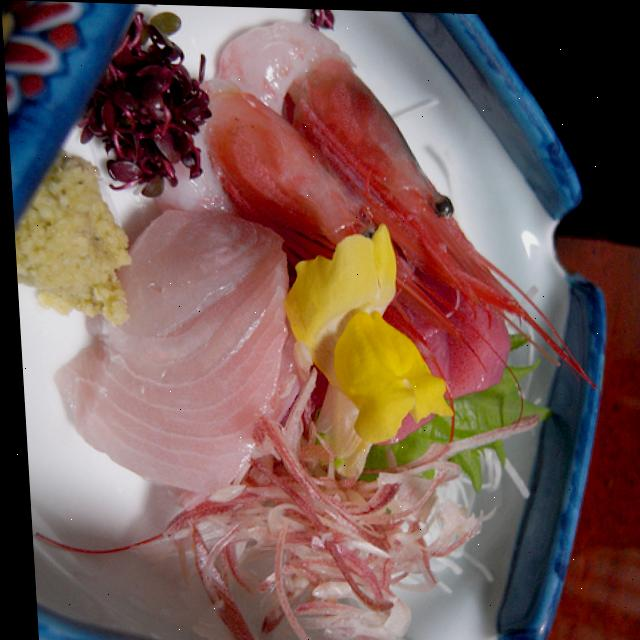刺身生食: (0, 0, 633, 640)
